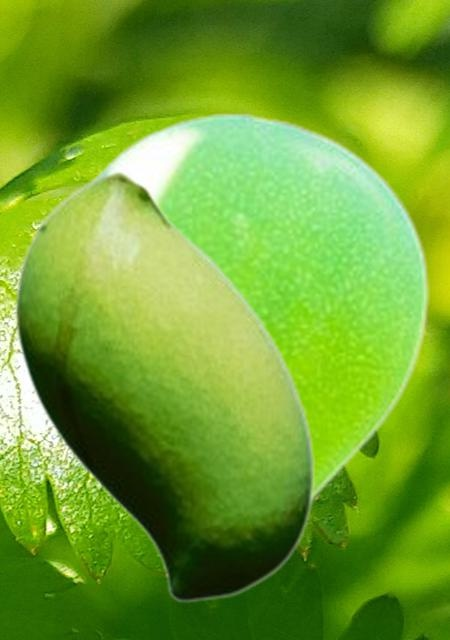green_mango: (85, 111, 428, 506), (13, 169, 313, 602)
